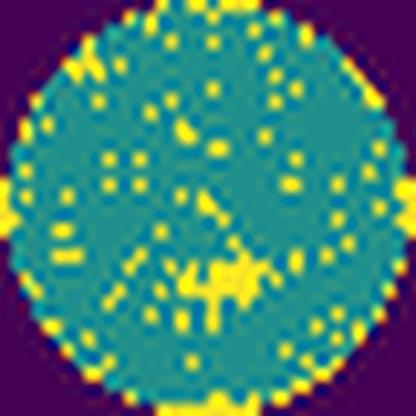Edge-Loc: (179, 234, 286, 328)
